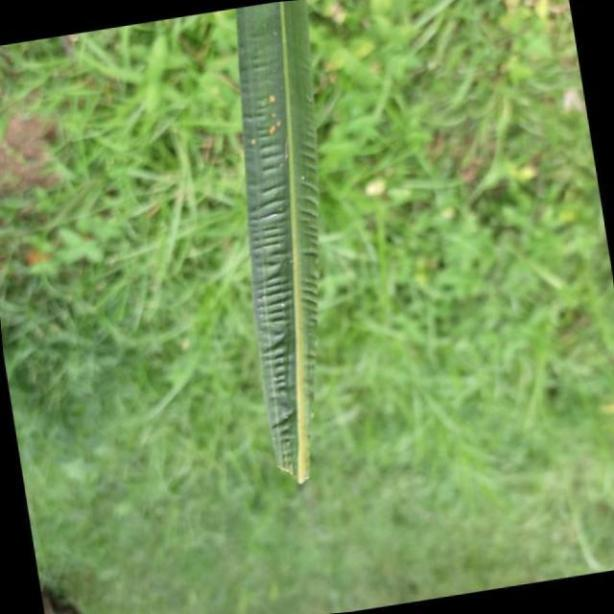Boron: (236, 0, 331, 489)
